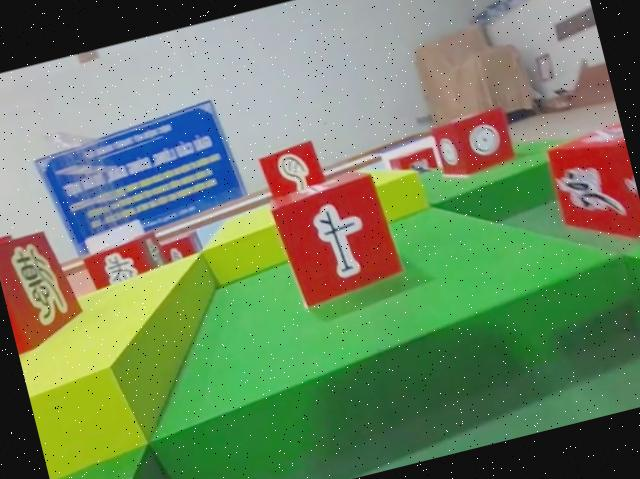R1: (541, 120, 640, 256)
R2 Fake: (0, 226, 91, 360), (81, 230, 166, 306), (258, 137, 330, 212)
R2 Real: (266, 164, 404, 313), (428, 104, 519, 184)
